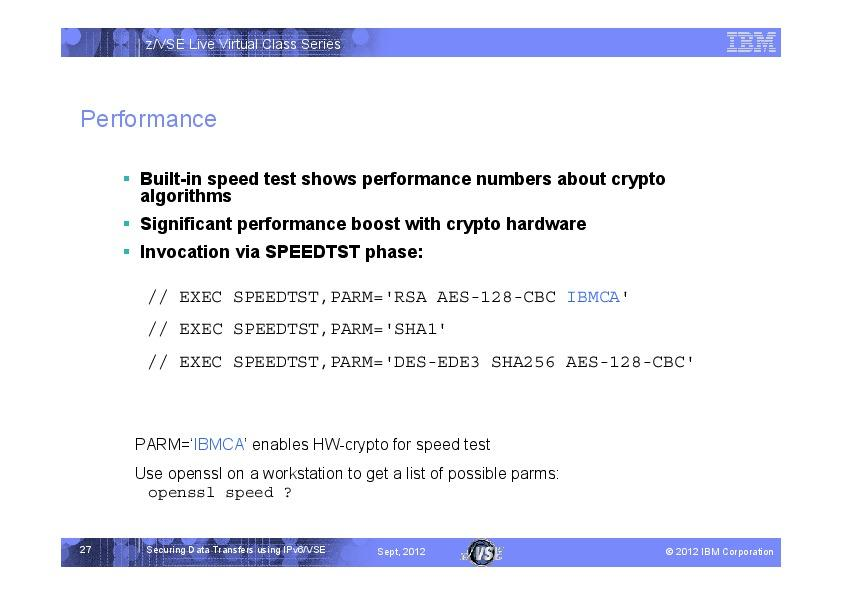paragraph: (105, 154, 745, 524)
subtitle: (70, 99, 228, 135)
title: (140, 30, 350, 59)
